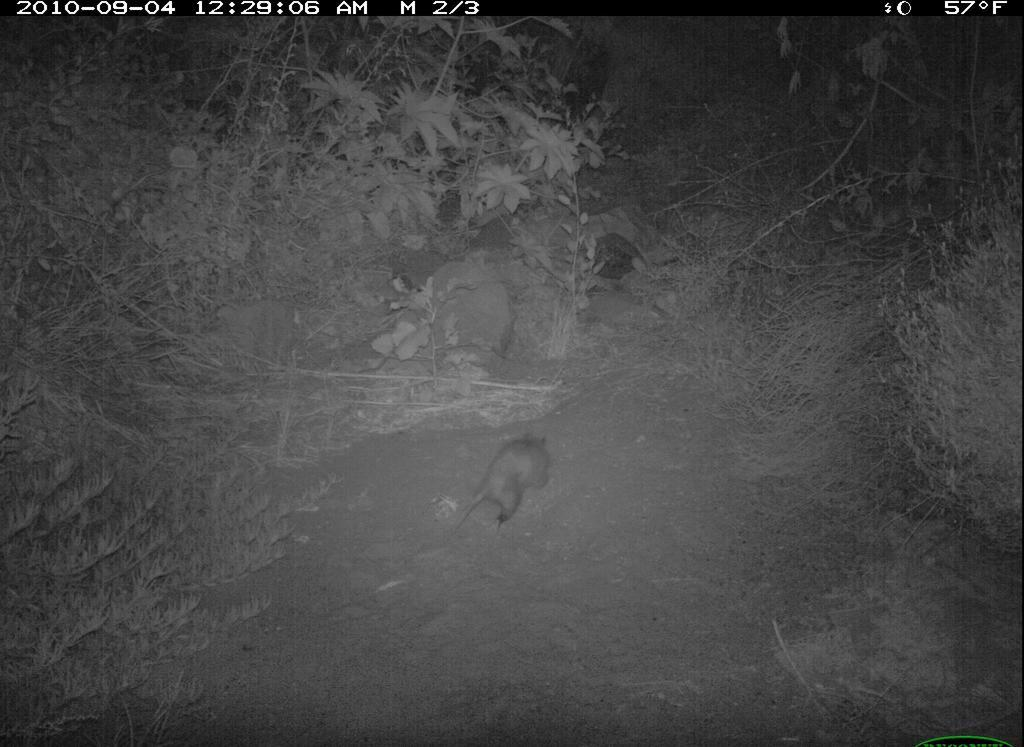opossum: (446, 417, 566, 543)
